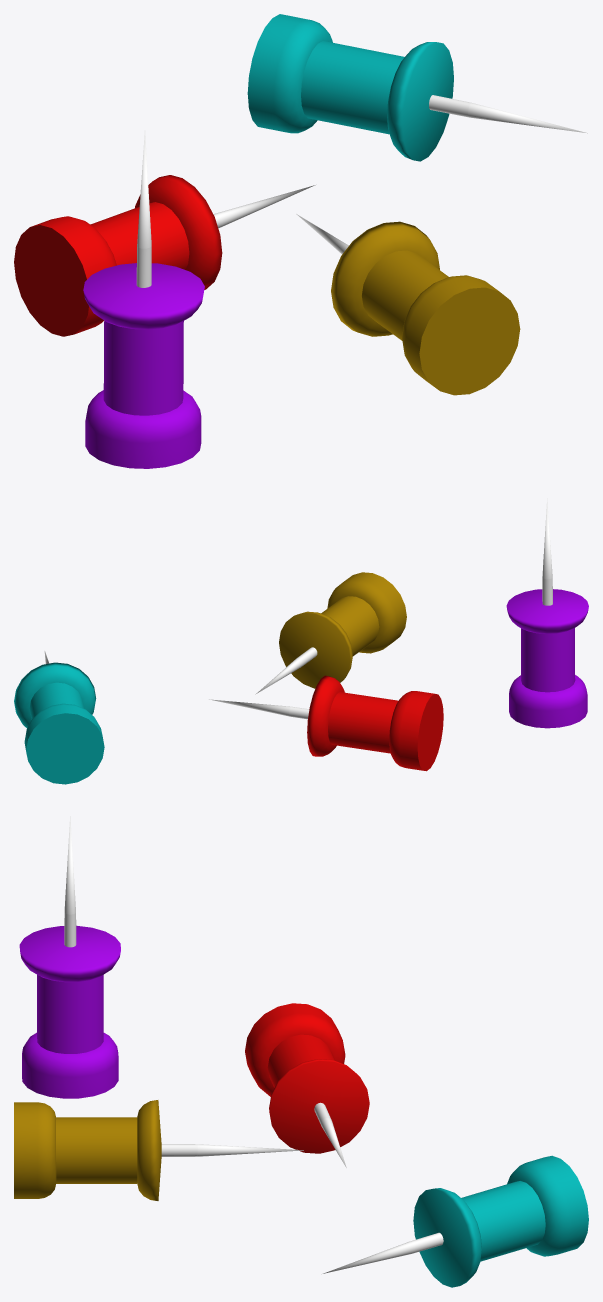
File: thumb_tack.fbx
3 renders of one model, top to bottom at view 1: azimuth 30°, elevation 25°; view 2: azimuth 150°, elevation 25°; view 3: azimuth 270°, elevation 25°, orthographic. The views are drawn at different scales.
Parts seen in each view (by area): view 1: thumb_tack4, thumb_tack2, thumb_tack1, thumb_tack3; view 2: thumb_tack4, thumb_tack3, thumb_tack1, thumb_tack2; view 3: thumb_tack2, thumb_tack4, thumb_tack3, thumb_tack1.
Part boxes in pixels (box(x1,y1,x2,y2)): thumb_tack4: box(83, 130, 204, 468); thumb_tack2: box(247, 14, 587, 161); thumb_tack1: box(296, 214, 520, 395); thumb_tack3: box(14, 175, 315, 336); thumb_tack4: box(506, 498, 588, 728); thumb_tack3: box(209, 675, 443, 771); thumb_tack1: box(255, 572, 406, 694); thumb_tack2: box(14, 651, 104, 784); thumb_tack2: box(323, 1155, 588, 1287); thumb_tack4: box(19, 816, 120, 1098); thumb_tack3: box(245, 1003, 369, 1167); thumb_tack1: box(14, 1100, 303, 1200).
Size of the model in its own units: 1.42 by 0.6648 by 1.3.
